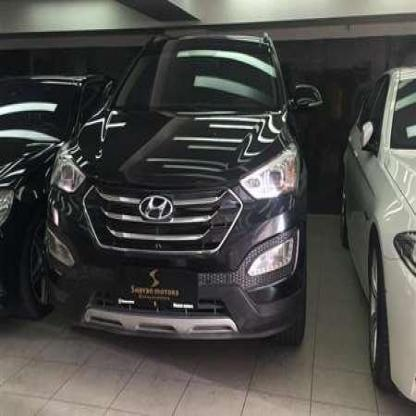Car: (51, 14, 312, 385), (0, 64, 114, 349), (336, 52, 416, 400)
